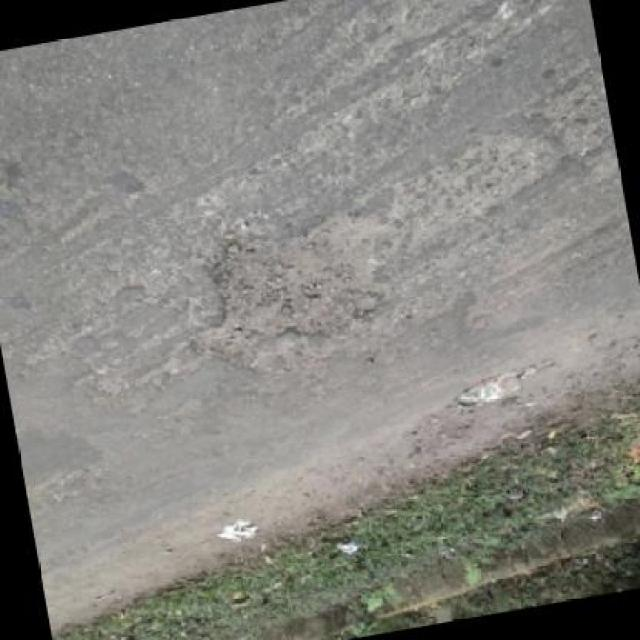pothole: (170, 205, 408, 368)
